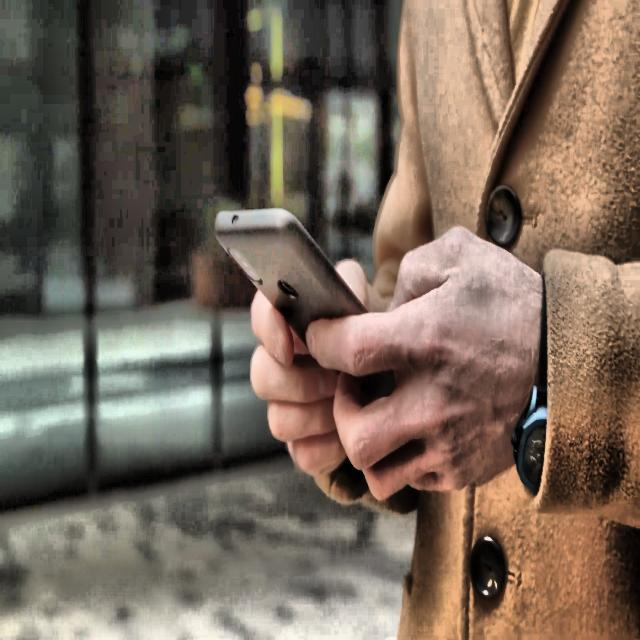Phone: (214, 205, 402, 414)
